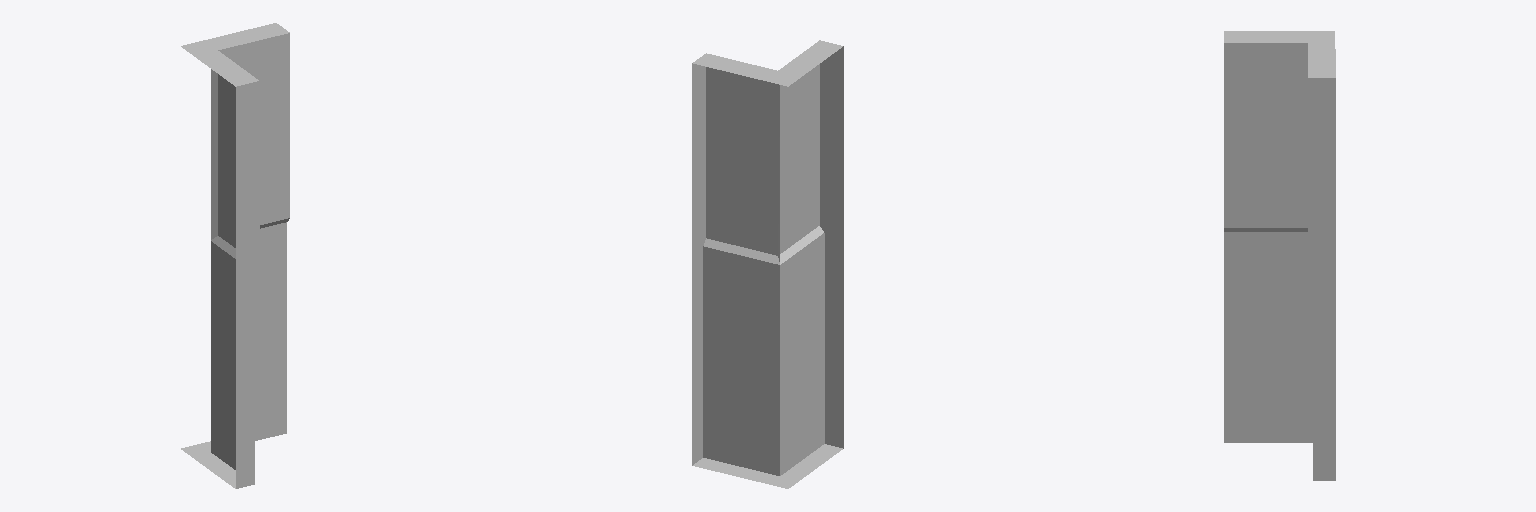
File: wall_modular_plain_kitchen_half_corner_inner_B.obj
The picture shows the model from 3 angles: view 1: azimuth 30°, elevation 25°; view 2: azimuth 150°, elevation 25°; view 3: azimuth 270°, elevation 25°; orthographic projection.
Parts seen in each view (by area): view 1: wall_modular_plain_kitchen_half_corner_inner_B; view 2: wall_modular_plain_kitchen_half_corner_inner_B; view 3: wall_modular_plain_kitchen_half_corner_inner_B.
Part boxes in pixels (left/top/right/bottom): wall_modular_plain_kitchen_half_corner_inner_B: left=181, top=23, right=289, bottom=488; wall_modular_plain_kitchen_half_corner_inner_B: left=692, top=40, right=843, bottom=488; wall_modular_plain_kitchen_half_corner_inner_B: left=1224, top=31, right=1335, bottom=480.
Size of the model in its own units: 1 by 4 by 1.